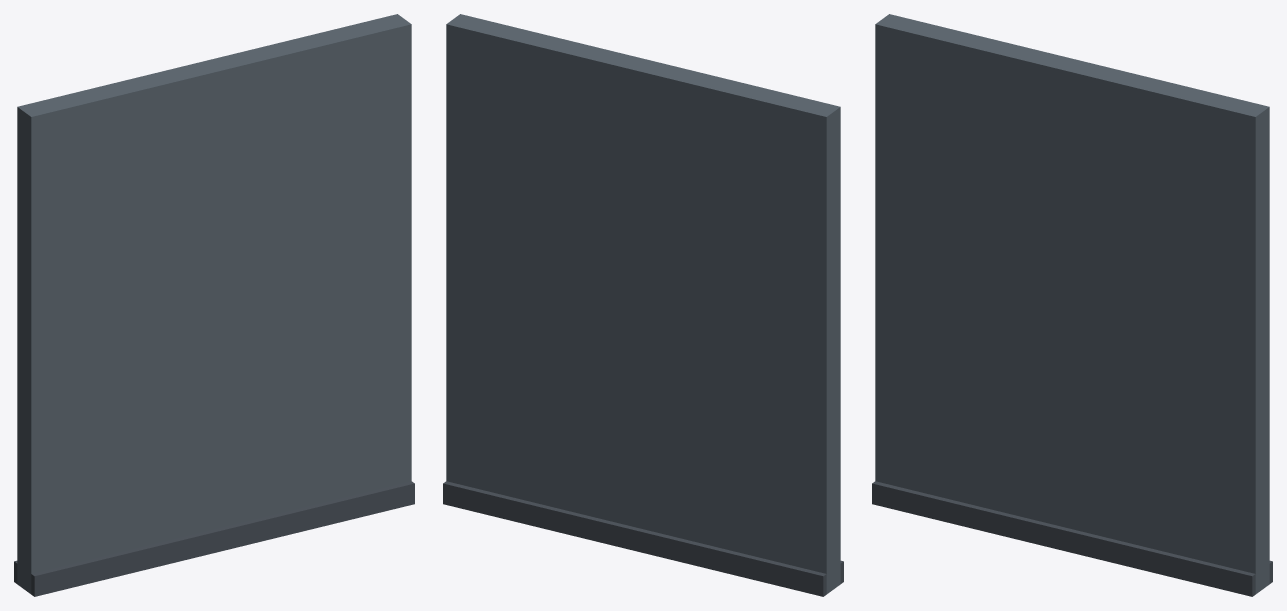
Rendered from yx_wall_charcoal.glb.
The picture shows the model from 3 angles, left to right: view 1: azimuth 30°, elevation 25°; view 2: azimuth 150°, elevation 25°; view 3: azimuth 330°, elevation 25°; orthographic projection.
Visible parts, largest first — view 1: yx_wall_charcoal; view 2: yx_wall_charcoal; view 3: yx_wall_charcoal.
Part boxes in pixels (bbox=[...]): yx_wall_charcoal: bbox=[14, 14, 414, 596]; yx_wall_charcoal: bbox=[443, 14, 843, 596]; yx_wall_charcoal: bbox=[872, 14, 1272, 596].
Size of the model in its own units: 2.5 by 3 by 0.232.
